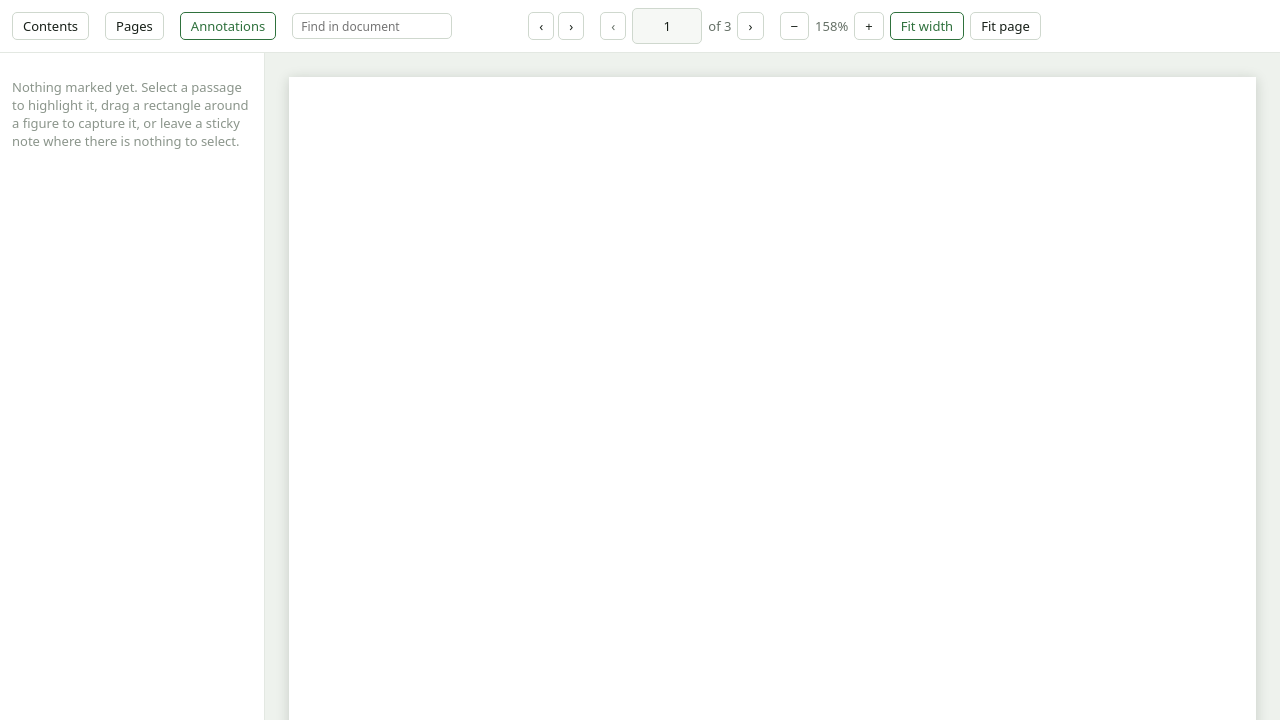
Test: pdf reader › moves between pages and keeps the reported page in step
Expected: the text "of 3" is shown, left=708, top=17, right=732, bottom=35
Expected: the button named "Previous page" is disabled, left=600, top=12, right=626, bottom=40
Click the button named "Next page" at (750, 26), box left=738, top=12, right=764, bottom=40
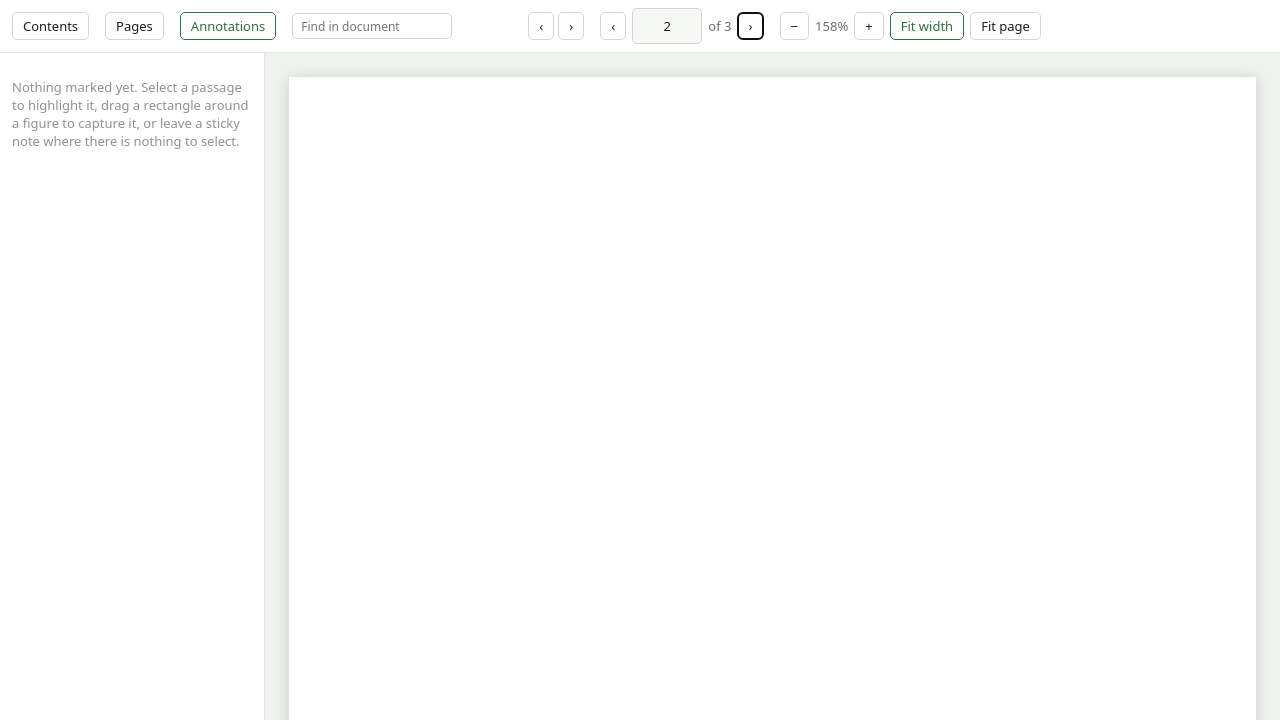
Expected: the button named "Previous page" is enabled, left=600, top=12, right=626, bottom=40
Result: the field named "Page" holds "2" at left=632, top=8, right=702, bottom=44
